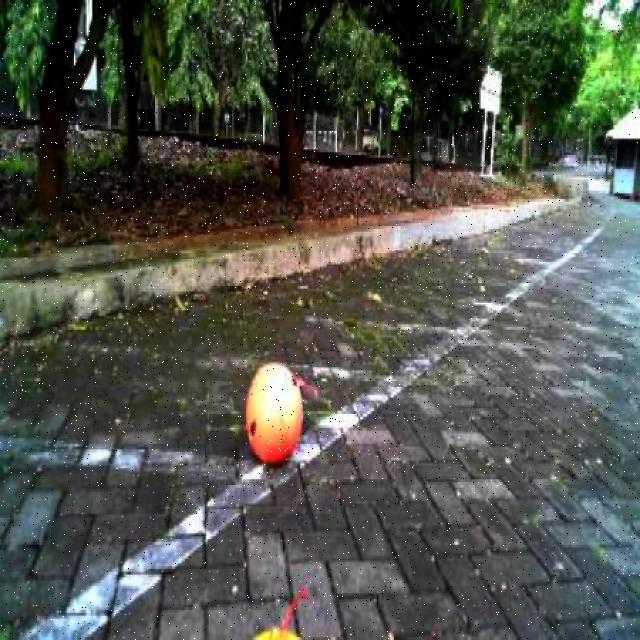buoy: (238, 350, 310, 475)
